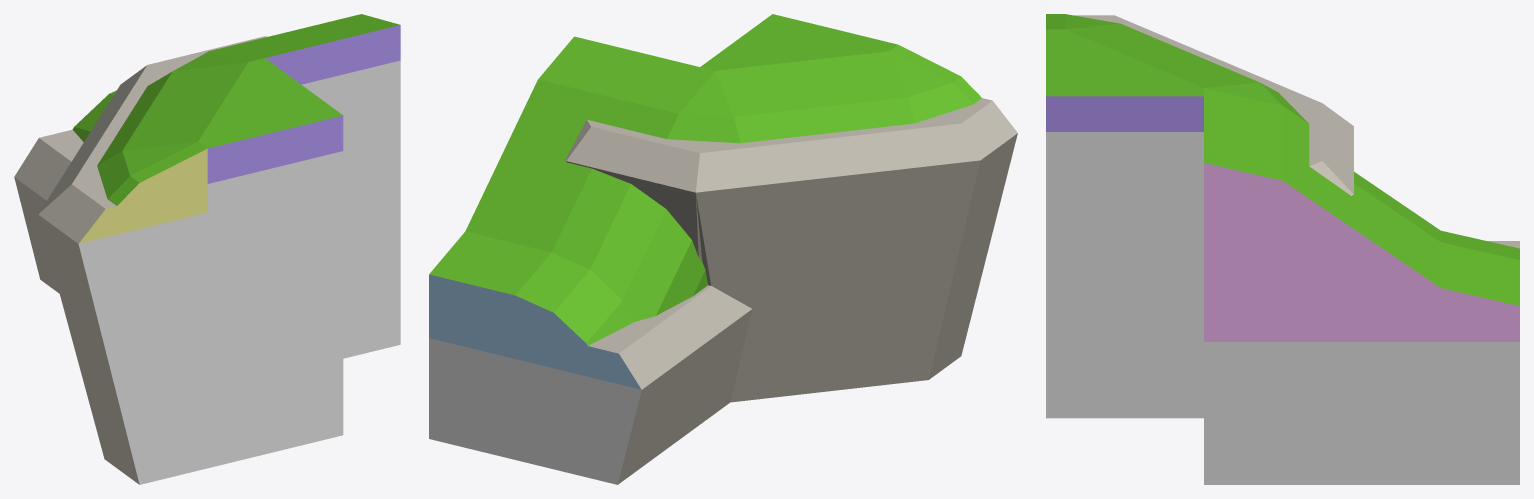
The model's file is Waterfall_Right_Top_Terrain_3x3.glb.
The picture shows the model from 3 angles, left to right: view 1: azimuth 30°, elevation 25°; view 2: azimuth 150°, elevation 25°; view 3: azimuth 270°, elevation 25°; orthographic projection. The views are drawn at different scales.
Parts seen in each view (by area): view 1: Waterfall_Right_Top_Terrain_3x3; view 2: Waterfall_Right_Top_Terrain_3x3; view 3: Waterfall_Right_Top_Terrain_3x3.
Part boxes in pixels (x1=…): Waterfall_Right_Top_Terrain_3x3: x1=14, y1=14, x2=400, y2=484; Waterfall_Right_Top_Terrain_3x3: x1=429, y1=14, x2=1017, y2=484; Waterfall_Right_Top_Terrain_3x3: x1=1046, y1=14, x2=1519, y2=484.
Size of the model in its own units: 295 by 225 by 300.
